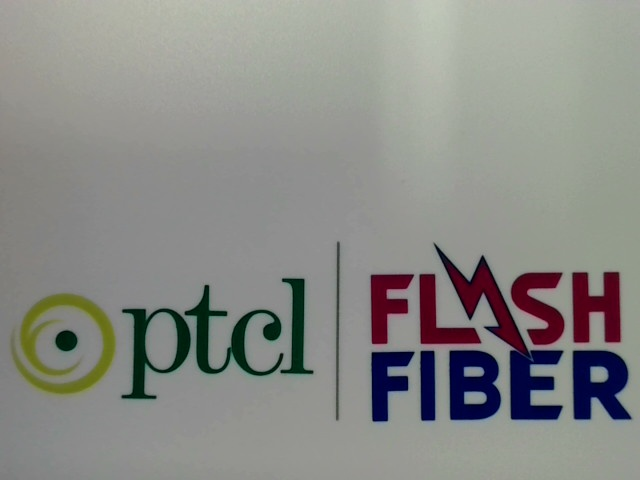BF_PTCL: (5, 271, 322, 408)
